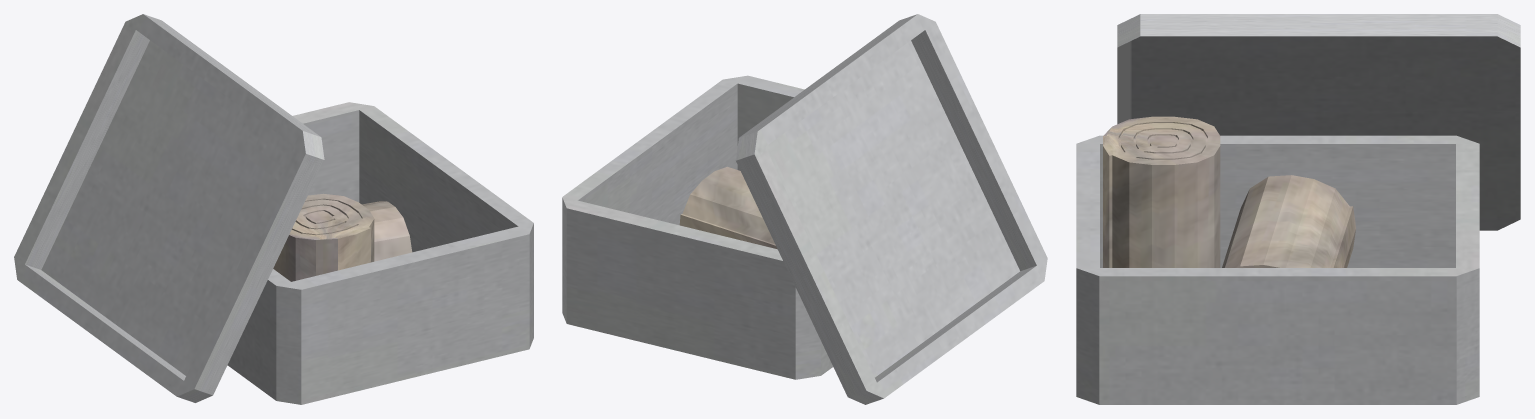
Rendered from medicine.fbx.
The picture shows the model from 3 angles, left to right: view 1: azimuth 30°, elevation 25°; view 2: azimuth 150°, elevation 25°; view 3: azimuth 270°, elevation 25°; orthographic projection. The views are drawn at different scales.
Visible parts, largest first — view 1: medical box.001, medical box, bandage, bandage.001; view 2: medical box.001, medical box, bandage.001; view 3: medical box, medical box.001, bandage, bandage.001.
Boxes of the visible parts, x1=… form: medical box.001: x1=14, y1=14, x2=324, y2=402; medical box: x1=227, y1=102, x2=533, y2=404; bandage: x1=273, y1=193, x2=374, y2=281; bandage.001: x1=362, y1=201, x2=412, y2=261; medical box.001: x1=735, y1=14, x2=1047, y2=404; medical box: x1=562, y1=75, x2=833, y2=379; bandage.001: x1=679, y1=166, x2=777, y2=249; medical box: x1=1076, y1=135, x2=1479, y2=404; medical box.001: x1=1117, y1=14, x2=1520, y2=230; bandage: x1=1103, y1=116, x2=1220, y2=267; bandage.001: x1=1222, y1=175, x2=1355, y2=267.
Size of the model in its own units: 214 by 149 by 218.
